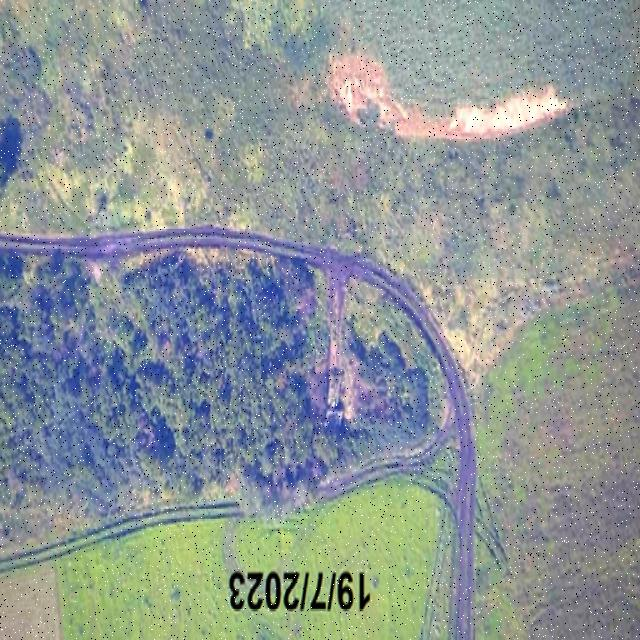ART: (324, 367, 348, 422)
